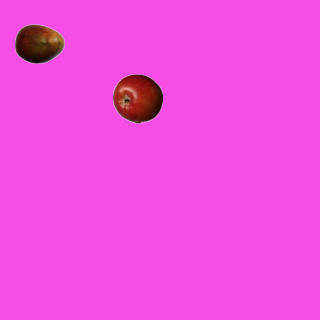Apple Braeburn: (112, 73, 162, 123)
Mango Red: (14, 18, 64, 68)
